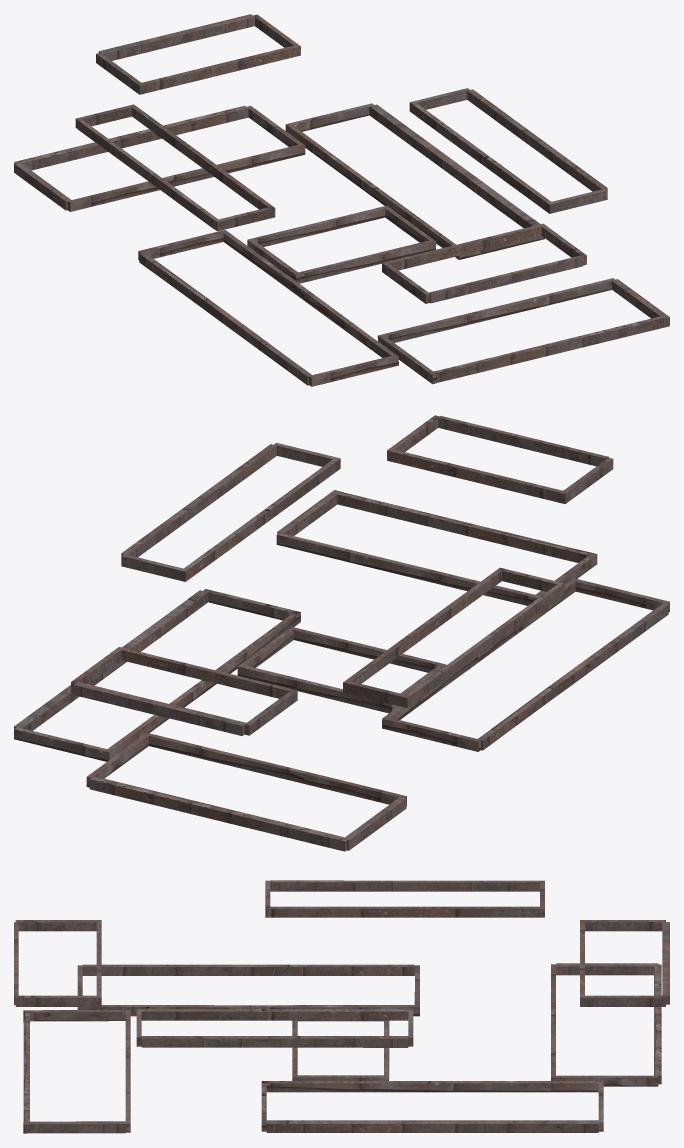
File: SM_LDFest_27_Metal.fbx
The picture shows the model from 3 angles, top to bottom: view 1: azimuth 30°, elevation 25°; view 2: azimuth 150°, elevation 25°; view 3: azimuth 270°, elevation 25°; orthographic projection. The views are drawn at different scales.
Visible parts, largest first — view 1: SM_LDFest_27_Metal; view 2: SM_LDFest_27_Metal; view 3: SM_LDFest_27_Metal.
Part boxes in pixels (box(x1,y1,x2,y2)): SM_LDFest_27_Metal: box(14, 14, 669, 386); SM_LDFest_27_Metal: box(14, 415, 669, 851); SM_LDFest_27_Metal: box(14, 880, 669, 1133).
Size of the model in its own units: 1863 by 507 by 3203.
